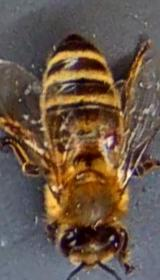varroa_mite: (93, 121, 123, 151)
